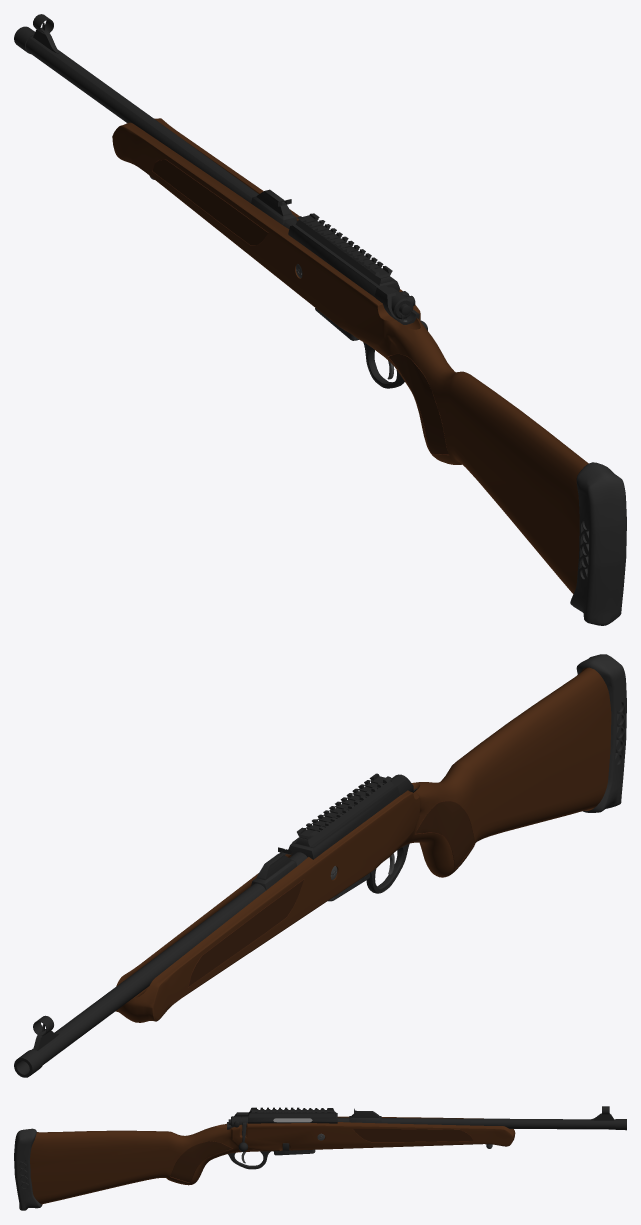
The model's file is vpo_215.glb.
3 views of the same model, one above another, from view 1: azimuth 30°, elevation 25°; view 2: azimuth 150°, elevation 25°; view 3: azimuth 270°, elevation 25° (orthographic). The views are drawn at different scales.
Visible parts, largest first — view 1: Piano.031; view 2: Piano.031; view 3: Piano.031, Piano.030, Object_3.001, Piano.033.
Part boxes in pixels (bbox=[...]): Piano.031: bbox=[14, 14, 626, 625]; Piano.031: bbox=[14, 654, 626, 1077]; Piano.031: bbox=[14, 1106, 626, 1210]; Piano.030: bbox=[228, 1116, 248, 1151]; Object_3.001: bbox=[273, 1149, 315, 1155]; Piano.033: bbox=[273, 1118, 312, 1122].
Bounding box in the file's own units: 0.4728 × 1.62 × 8.69.
9 materials, 1 textured.
